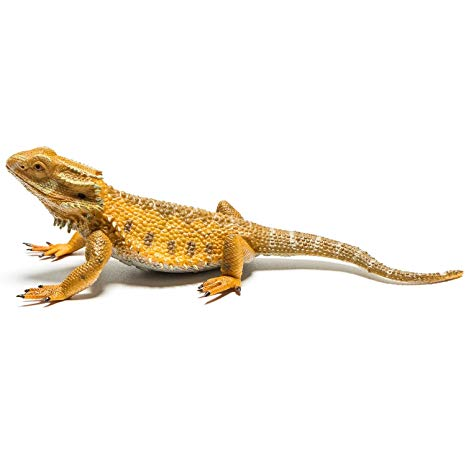bearded: (5, 145, 465, 309)
